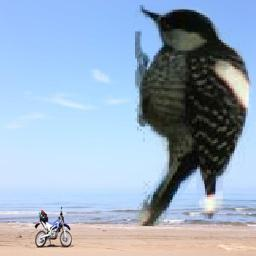Woodpecker: (136, 6, 253, 227)
